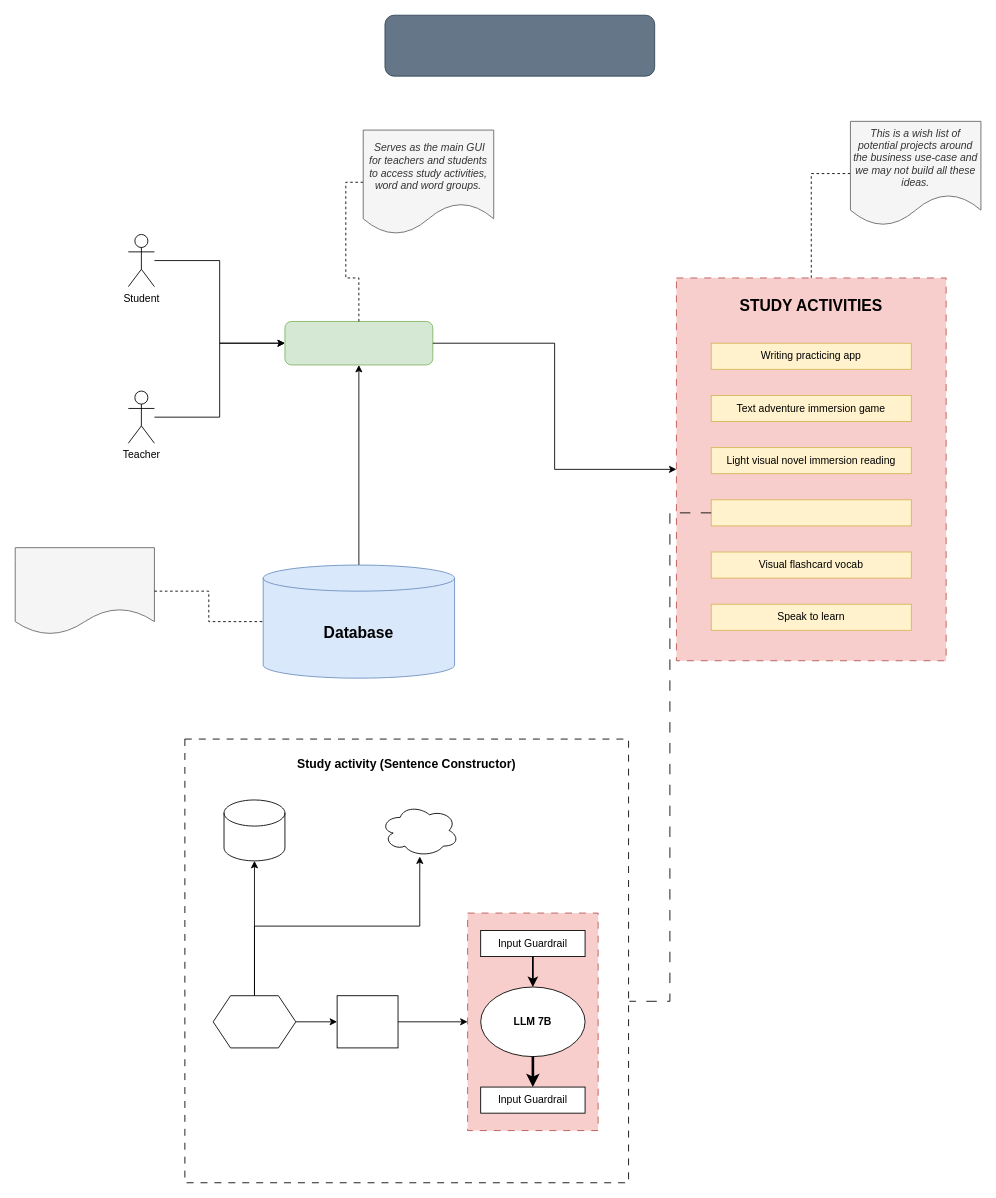
Some shapes in this 996 by 1198 pixel diagram are drawn without their labels. Here are the shapes that lost their labels. From the top down, the centre of each, then its label:
At [519,45]: "CONCEPTUAL DIAGRAM".
At [358,343]: "LANG PORTAL".
At [810,512]: "Sentence constructor".
At [84,591]: "2000 words + other necessary data".
At [254,830]: "Vector DB".
At [419,830]: "Internet".
At [254,1021]: "RAG".
At [367,1021]: "Prompt Cache".
